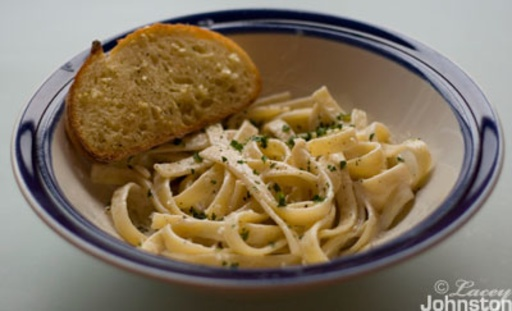background: (50, 11, 347, 130)
